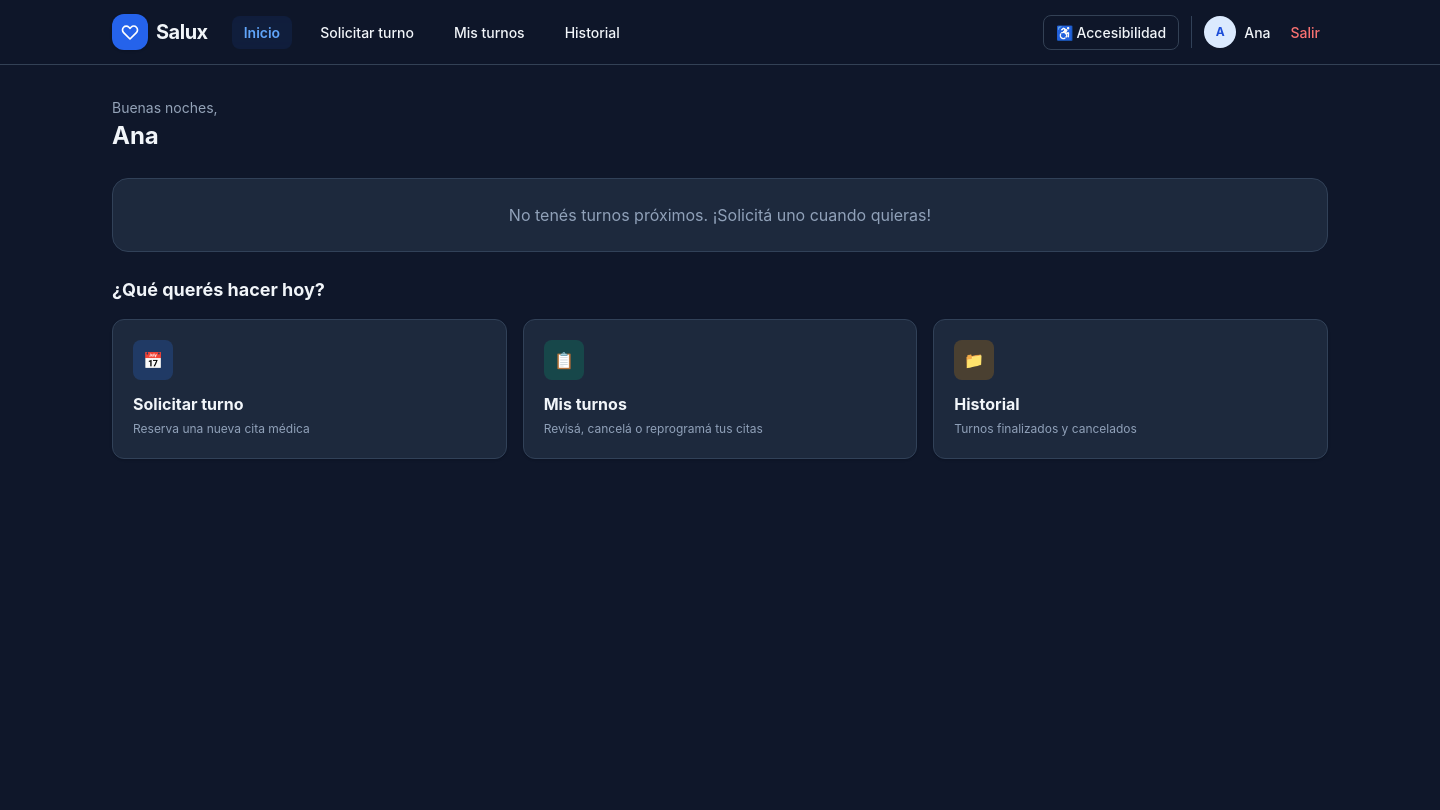
Test: cerrar con clic en el fondo › las confirmaciones del panel se descartan con el fondo, sin ejecutar la acción
The width and height of the screenshot is (1440, 810).
Click the button "Salir": click(1305, 32) x1=1282 y1=18 x2=1328 y2=46
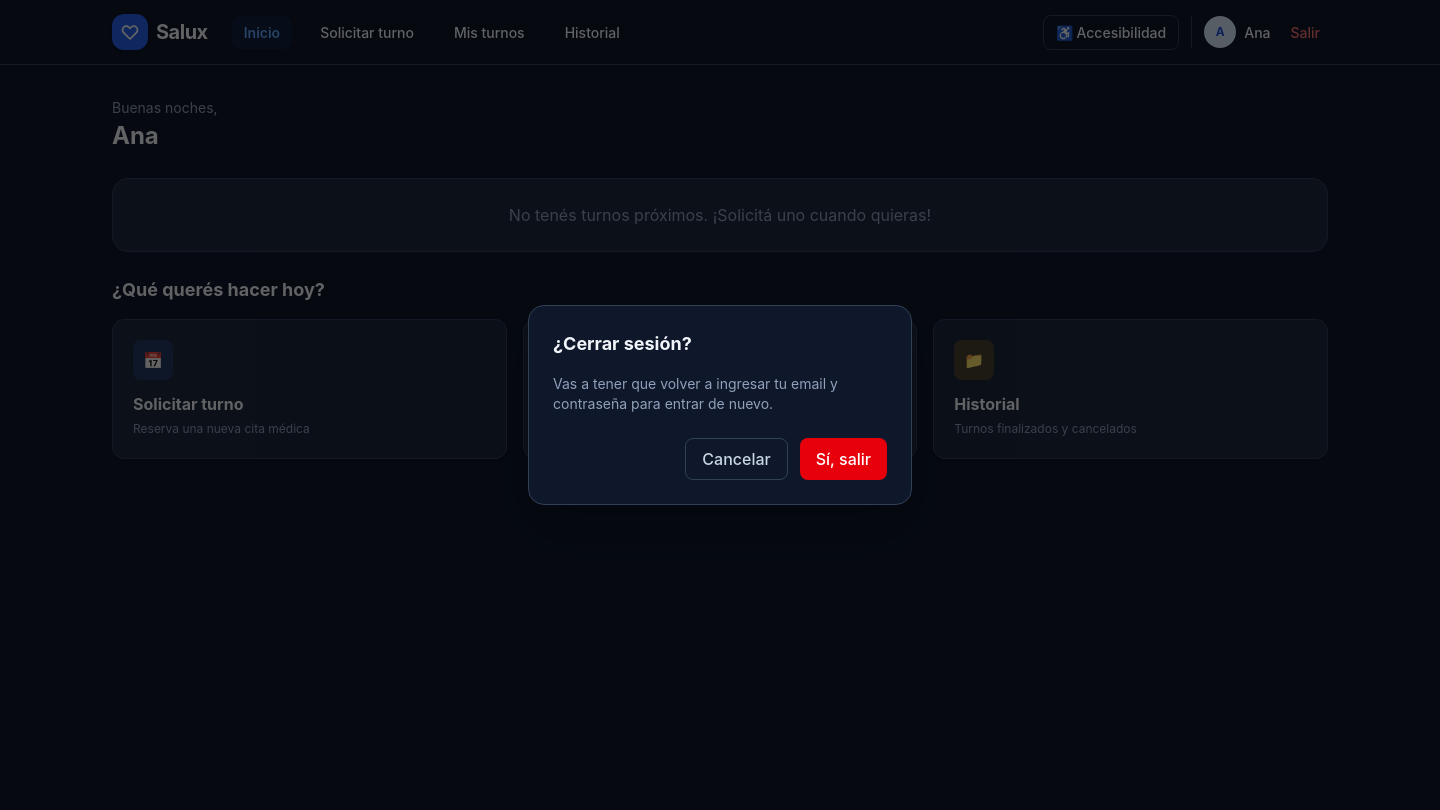
Press the mouse on the element that starts with "¿Cerrar sesión?": (720, 405) x1=0 y1=0 x2=1439 y2=809
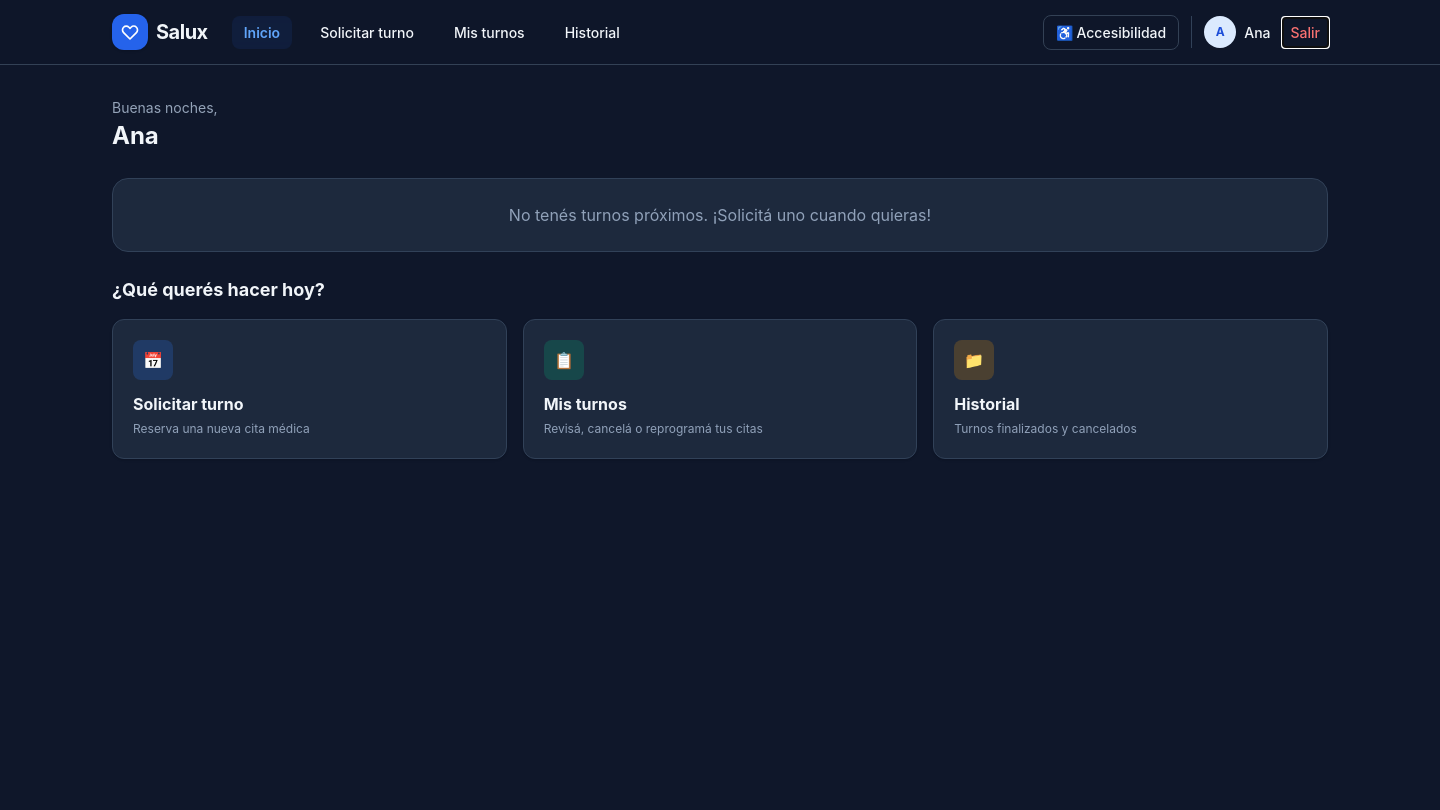
Result: the dialog is gone
